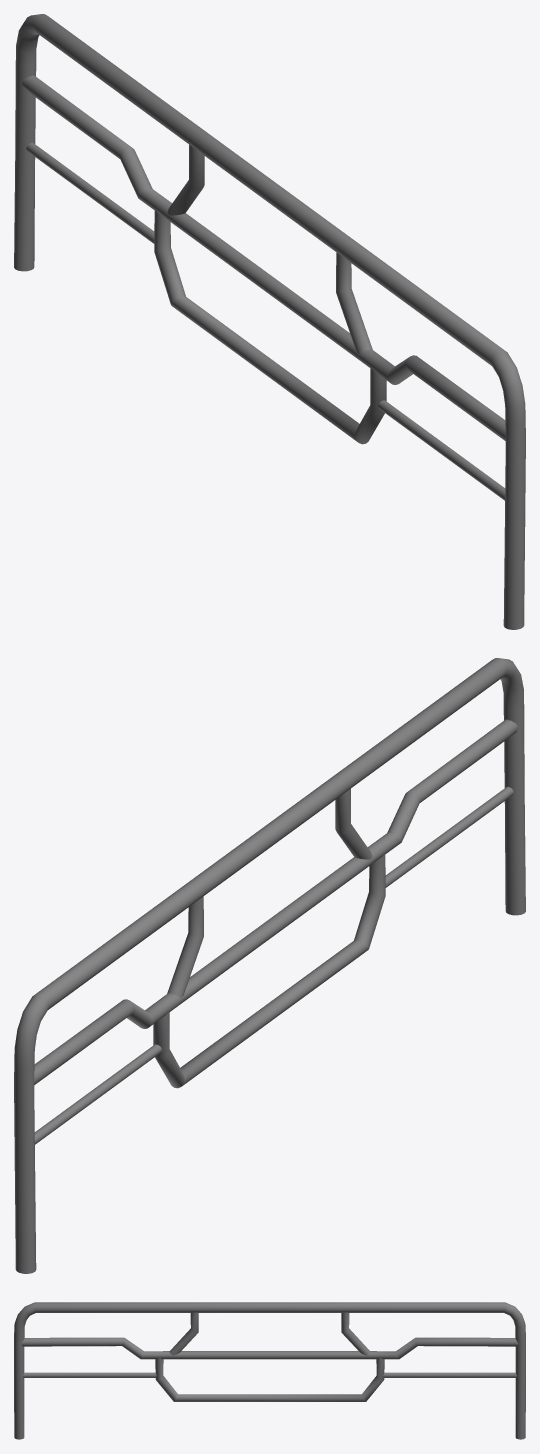
Rendered from q-scifi-mod-prop-rail-3.glb.
3 renders of one model, top to bottom at view 1: azimuth 30°, elevation 25°; view 2: azimuth 150°, elevation 25°; view 3: azimuth 270°, elevation 25°, orthographic. The views are drawn at different scales.
Parts seen in each view (by area): view 1: Prop_Rail_3; view 2: Prop_Rail_3; view 3: Prop_Rail_3.
Boxes of the visible parts, x1,y1,x2,y2 form: Prop_Rail_3: (14,14,525,629); Prop_Rail_3: (14,658,525,1273); Prop_Rail_3: (14,1302,525,1439).
Size of the model in its own units: 0.0666 by 0.8621 by 2.97.
Materials: 1 (1 with a texture image).
